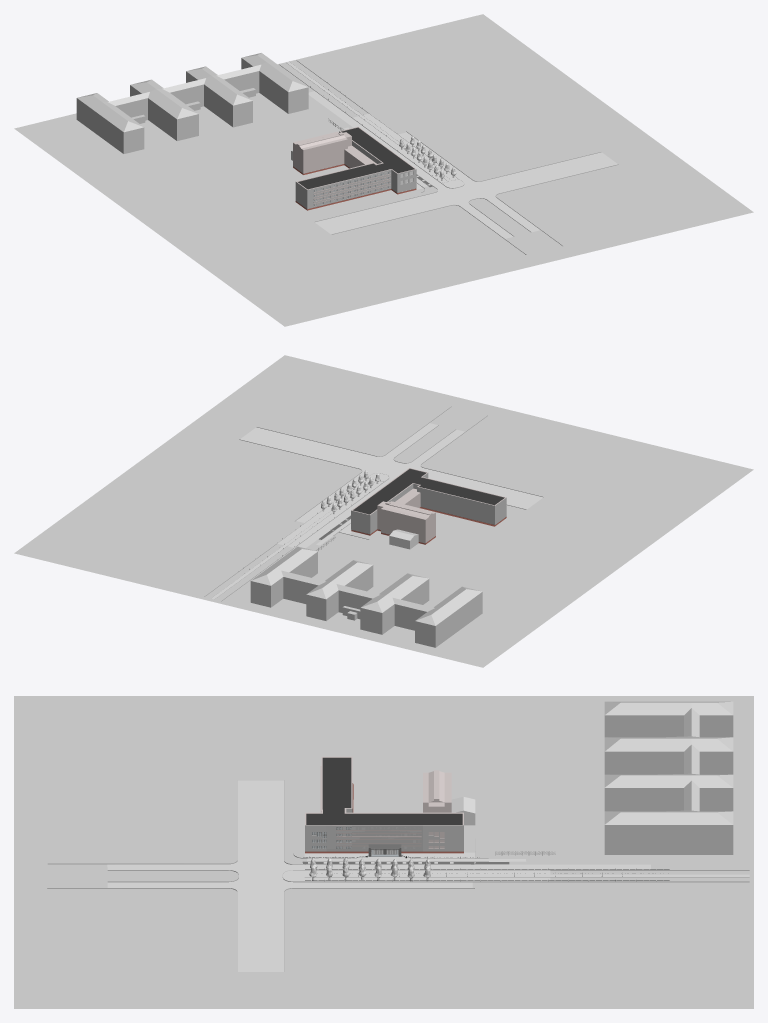
File: RTF.fbx
3 renders of one model, top to bottom at view 1: azimuth 30°, elevation 25°; view 2: azimuth 150°, elevation 25°; view 3: azimuth 270°, elevation 25°, orthographic. The views are drawn at different scales.
Visible parts, largest first — view 1: Plane.003, Plane, Cube.003, ROAD, URFU MAIN.007, Plane.004, BRICKWALL, path, path.002, path.001; view 2: Plane.003, Plane, Cube.003, ROAD, URFU MAIN.007, Plane.004, BRICKWALL, path, path.002, path.001; view 3: Plane.003, Plane, Cube.003, ROAD, URFU MAIN.007, Plane.004, BRICKWALL, path, path.002, path.001, pedestrian, ROAD FENCE (+1 smaller).
Part boxes in pixels (box(x1,y1,x2,y2)): Plane.003: box(39, 24, 728, 315); Plane: box(14, 14, 753, 326); Cube.003: box(76, 53, 308, 153); ROAD: box(308, 91, 617, 238); URFU MAIN.007: box(293, 126, 416, 210); Plane.004: box(366, 146, 610, 221); BRICKWALL: box(295, 131, 416, 209); path: box(279, 60, 618, 254); path.002: box(352, 114, 458, 183); path.001: box(286, 62, 463, 187); Plane.003: box(39, 365, 728, 656); Plane: box(14, 355, 753, 667); Cube.003: box(250, 546, 482, 647); ROAD: box(240, 423, 542, 575); URFU MAIN.007: box(351, 468, 506, 544); Plane.004: box(248, 429, 492, 521); BRICKWALL: box(351, 473, 506, 534); path: box(204, 406, 543, 601); path.002: box(277, 478, 383, 547); path.001: box(211, 473, 388, 599); Plane.003: box(39, 705, 728, 996); Plane: box(14, 696, 753, 1008); Cube.003: box(604, 701, 733, 854); ROAD: box(107, 780, 650, 971); URFU MAIN.007: box(305, 756, 463, 853); Plane.004: box(210, 813, 446, 966); BRICKWALL: box(305, 808, 463, 851); path: box(47, 780, 749, 971); path.002: box(304, 870, 550, 881); path.001: box(283, 870, 749, 881); pedestrian: box(307, 856, 525, 861); ROAD FENCE: box(305, 868, 669, 880).
Size of the model in its own units: 4686 by 273 by 4686.
